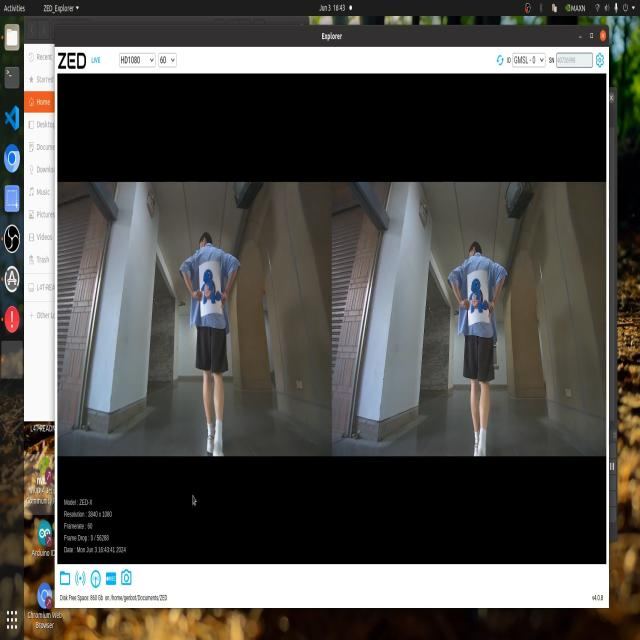blue: (185, 264, 224, 314), (458, 276, 493, 327)
